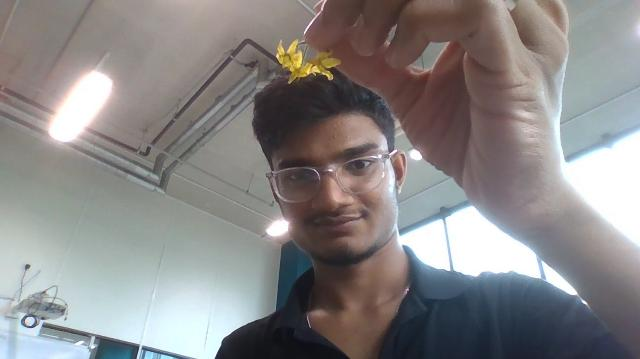Anthesis: (275, 38, 307, 75), (306, 50, 341, 80), (288, 62, 313, 83), (318, 56, 341, 69), (277, 41, 286, 59)
